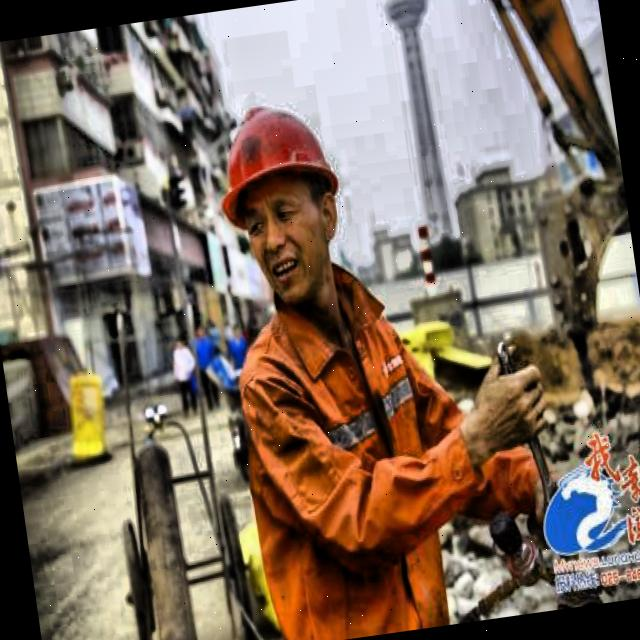helmet: (200, 76, 380, 321)
